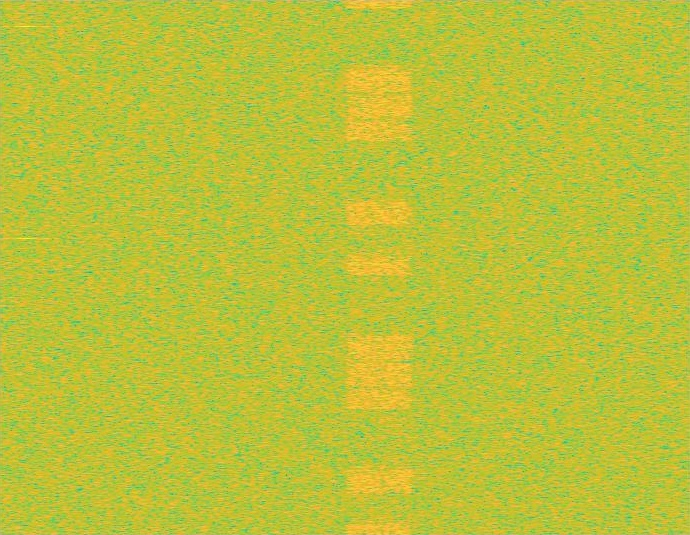LTE: (345, 0, 414, 534)
Radar: (19, 0, 33, 534)
